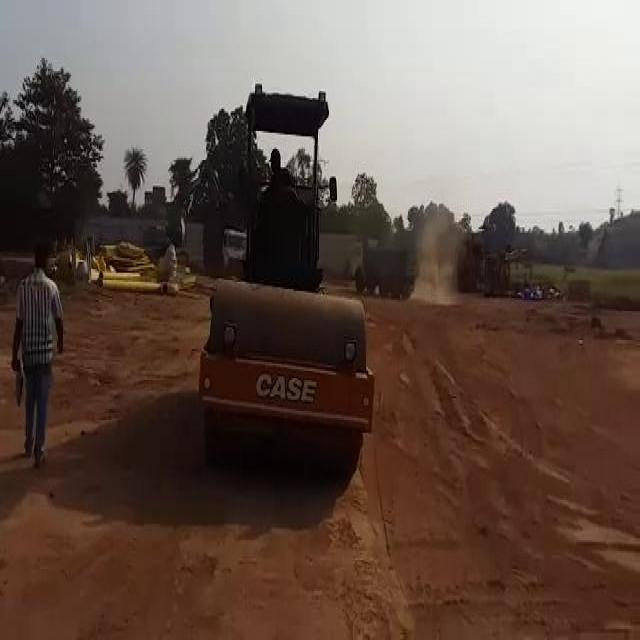Dump Truck: (350, 234, 421, 294)
Roller: (185, 75, 377, 492)
